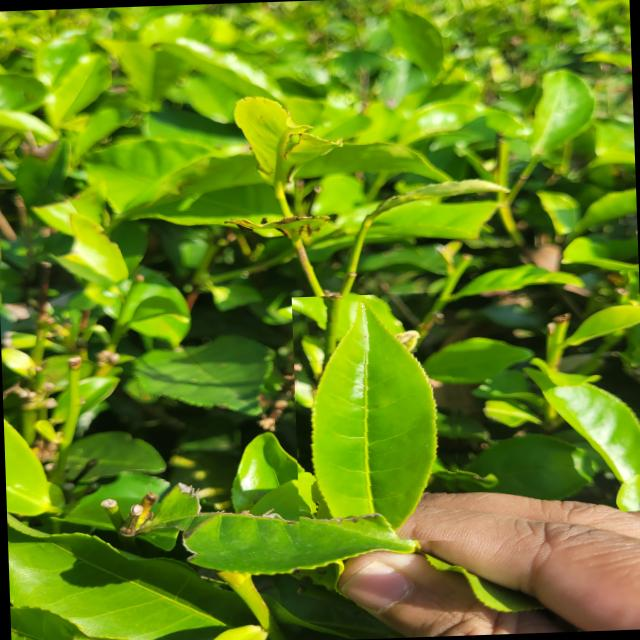Catagory A(1-2 days): (291, 291, 472, 546)
